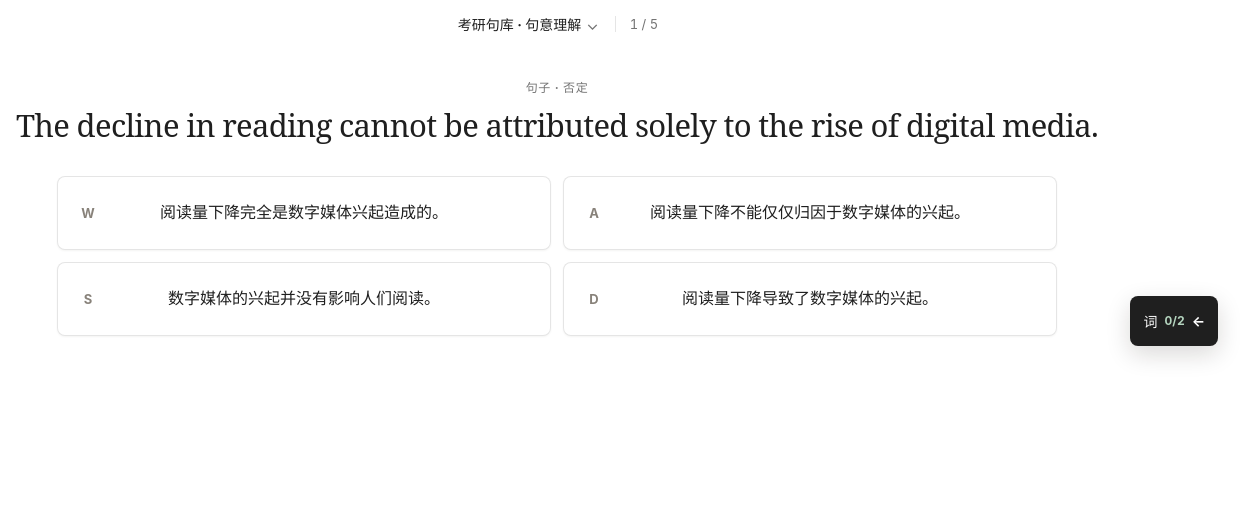
training flow › keeps reading vocabulary hints available but hides them during a self-test
Click the button named "打开生词提示" at (1174, 321), box x1=1130 y1=296 x2=1218 y2=346
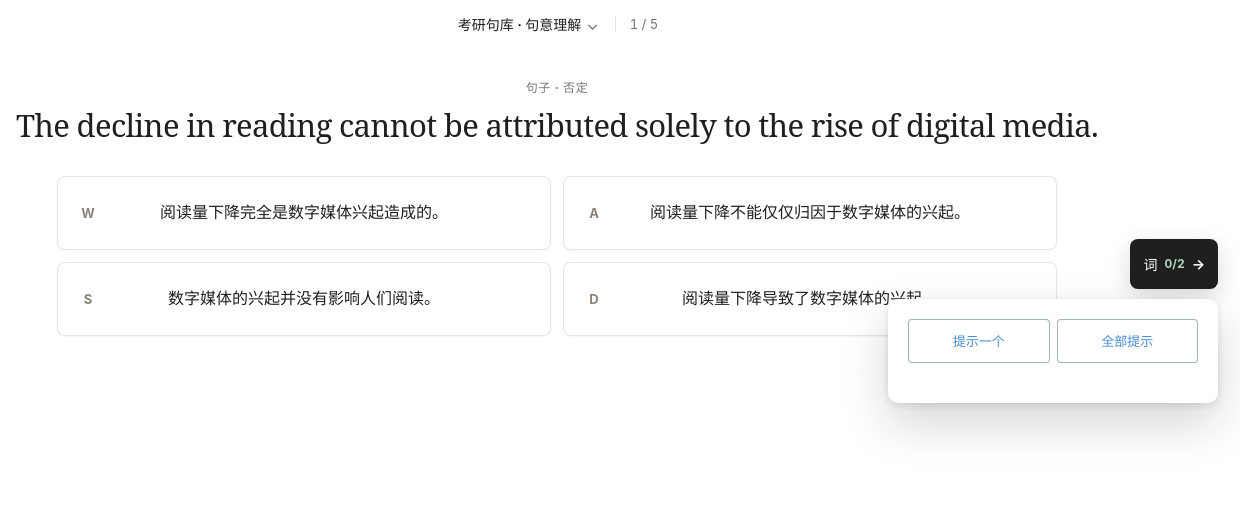
Click the button "提示一个" at (979, 341), box x1=908 y1=319 x2=1050 y2=363
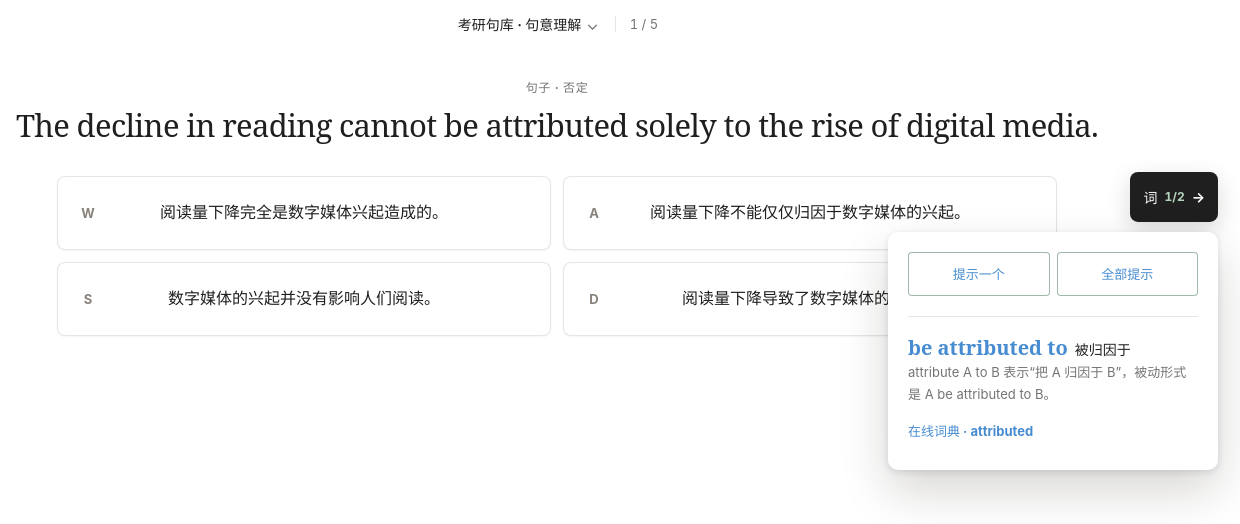
Expected: the text "The decline in reading cannot be attributed solely to the rise of digital media." is shown, x1=16 y1=104 x2=1098 y2=146
Now the number of list items is 1, box x1=908 y1=316 x2=1198 y2=450
Now the button "在线词典 · attributed" is shown, box x1=908 y1=412 x2=1033 y2=450
